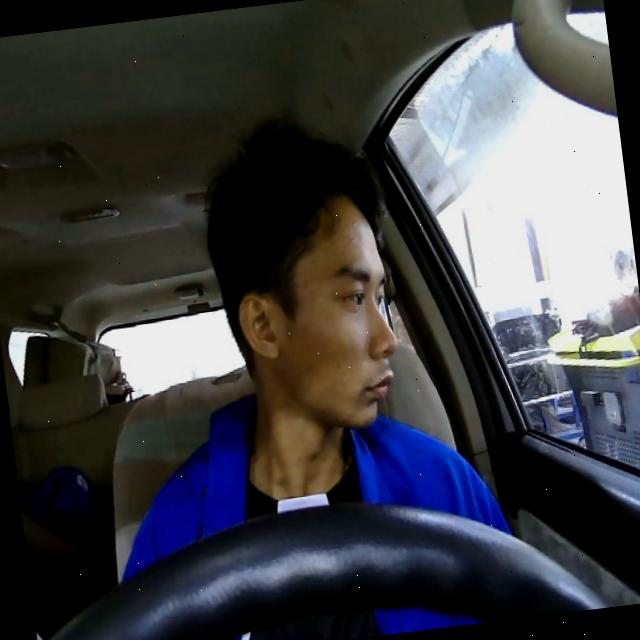seeing_right: (220, 185, 409, 442)
